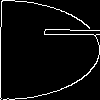I: (25, 25, 100, 40)
